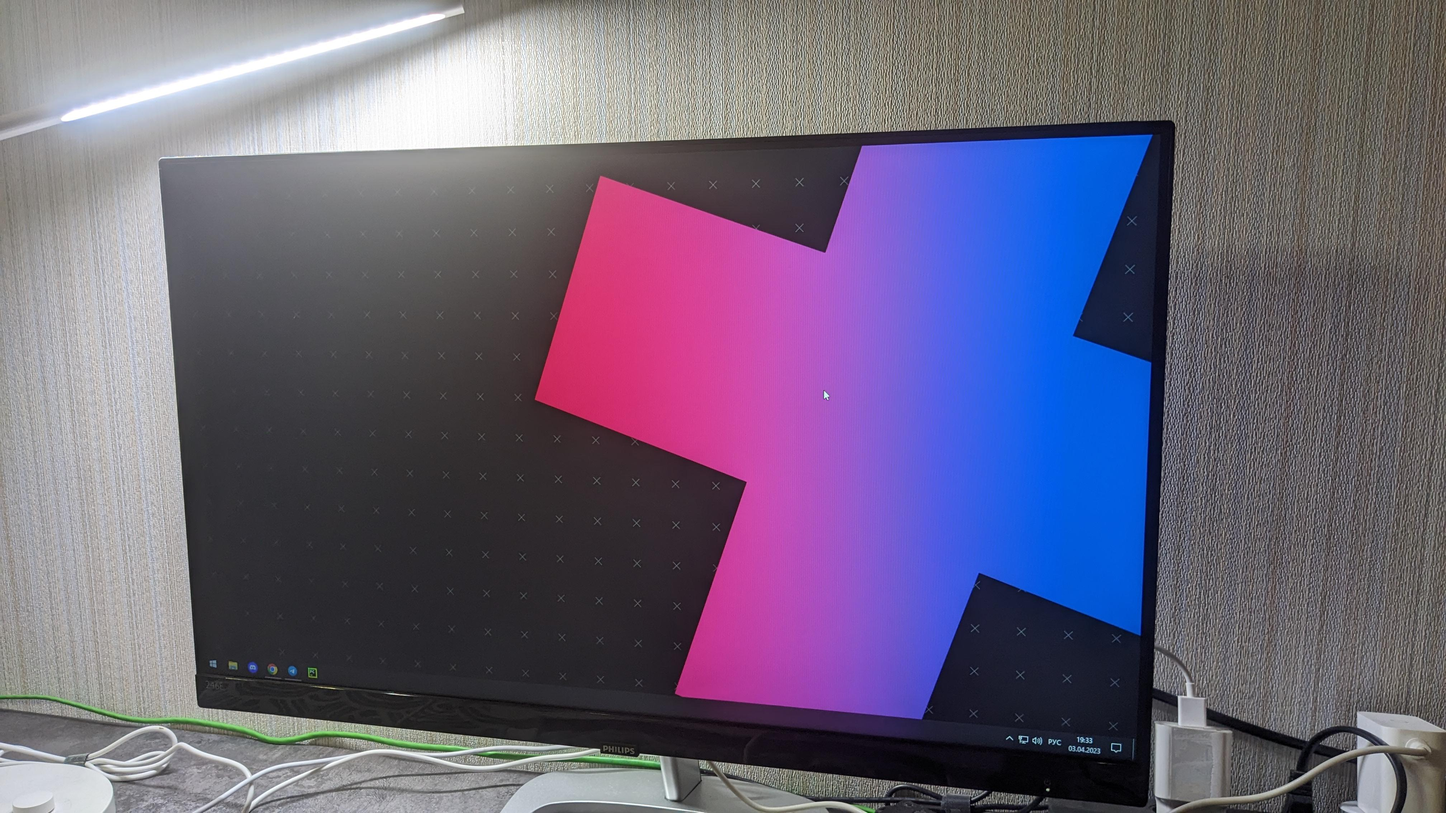monitor: (152, 111, 1180, 813)
